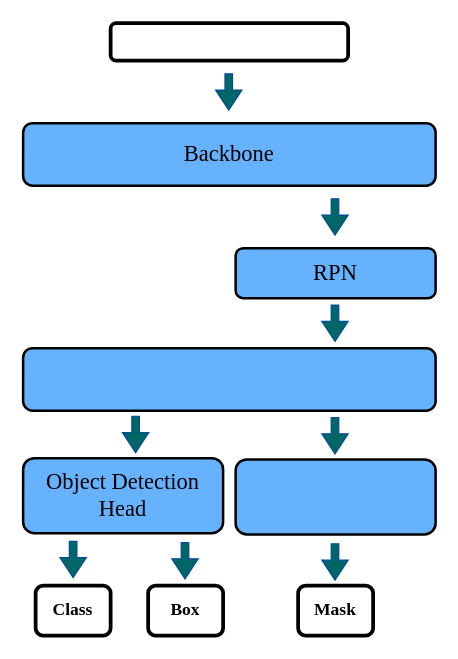
Image size: 458x659. Some labels were removed from this diagram. The shapes that lost their labels are listed below. From the top down, each one's centre as x and y in pixels, then its label:
At point 228,41: "Segmented Tile".
At point 228,378: "ROIAlign".
At point 335,496: "Mask Generation Head".
